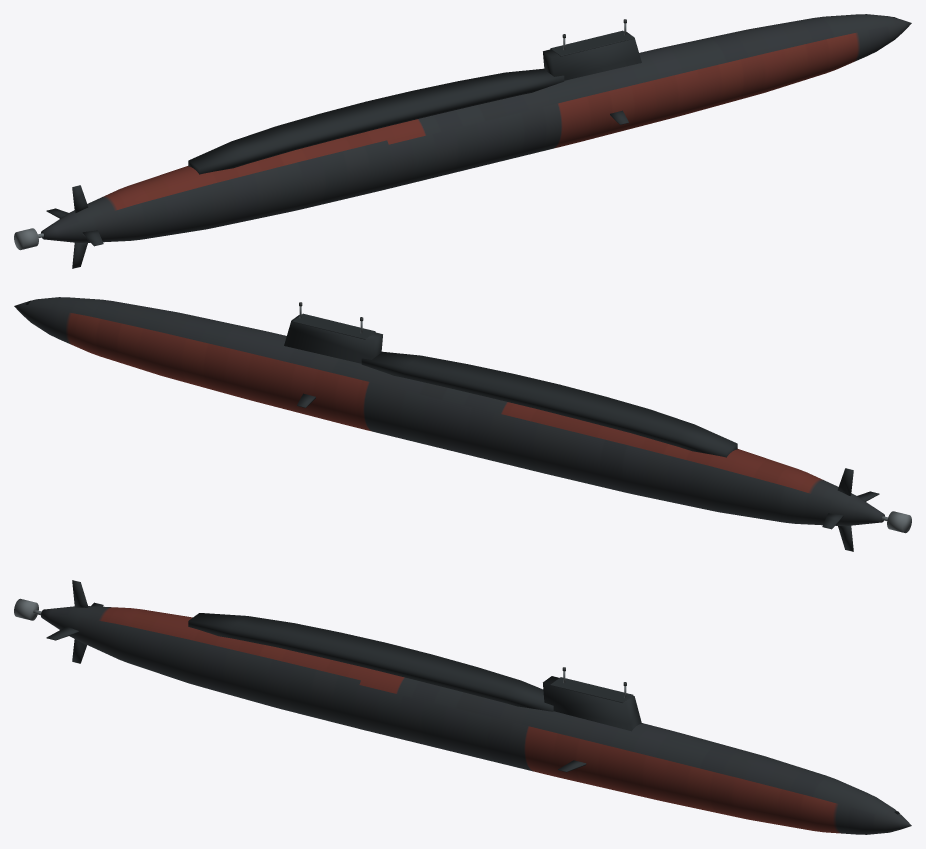
Rendered from RU_SSBN_DeltaIV_LOD1.fbx.
3 renders of one model, top to bottom at view 1: azimuth 30°, elevation 25°; view 2: azimuth 150°, elevation 25°; view 3: azimuth 330°, elevation 25°, orthographic.
Parts seen in each view (by area): view 1: RU_SSBN_DeltaIV_LOD1; view 2: RU_SSBN_DeltaIV_LOD1; view 3: RU_SSBN_DeltaIV_LOD1.
Boxes of the visible parts, x1,y1,x2,y2 form: RU_SSBN_DeltaIV_LOD1: (14, 14, 911, 268); RU_SSBN_DeltaIV_LOD1: (14, 297, 911, 551); RU_SSBN_DeltaIV_LOD1: (14, 580, 911, 834).
Size of the model in its own units: 172 by 20.77 by 20.9.
Materials: 6 (1 with a texture image).
